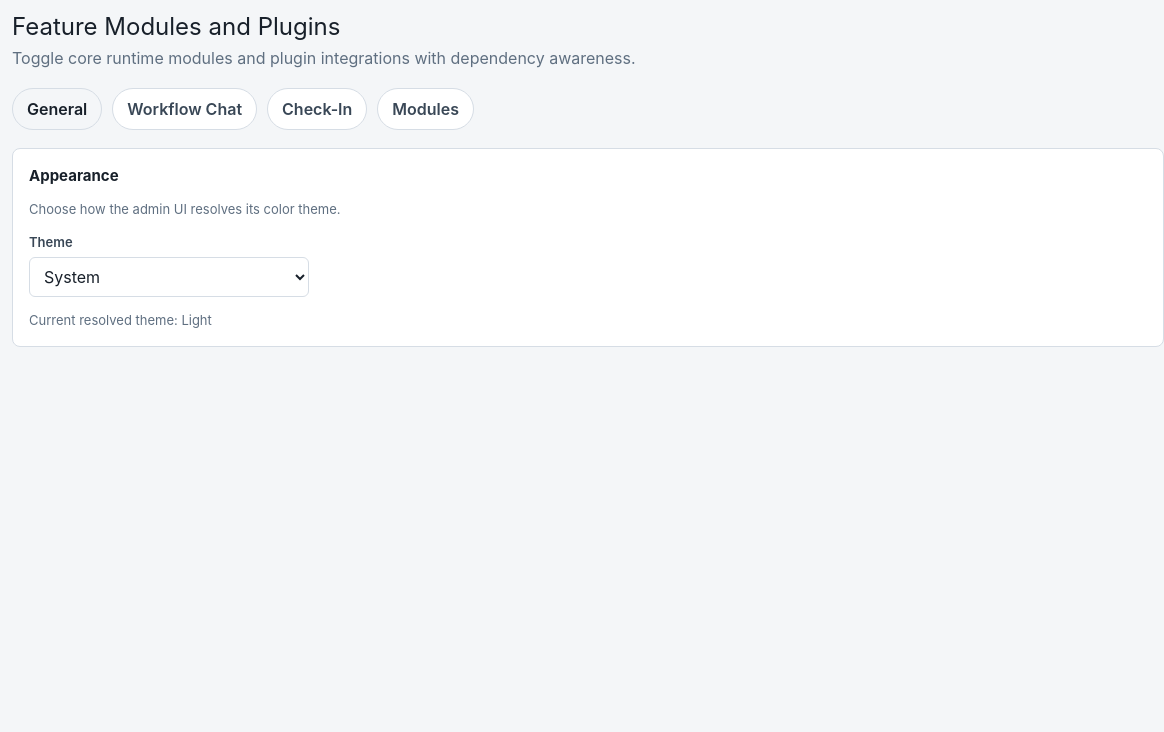
Test: SettingsView › shows check-in settings only when the check-in module is enabled
This screenshot has width=1164, height=732.
Click the button with test id "settings-tab-checkin".
click(317, 109)  # box [267,88,367,130]
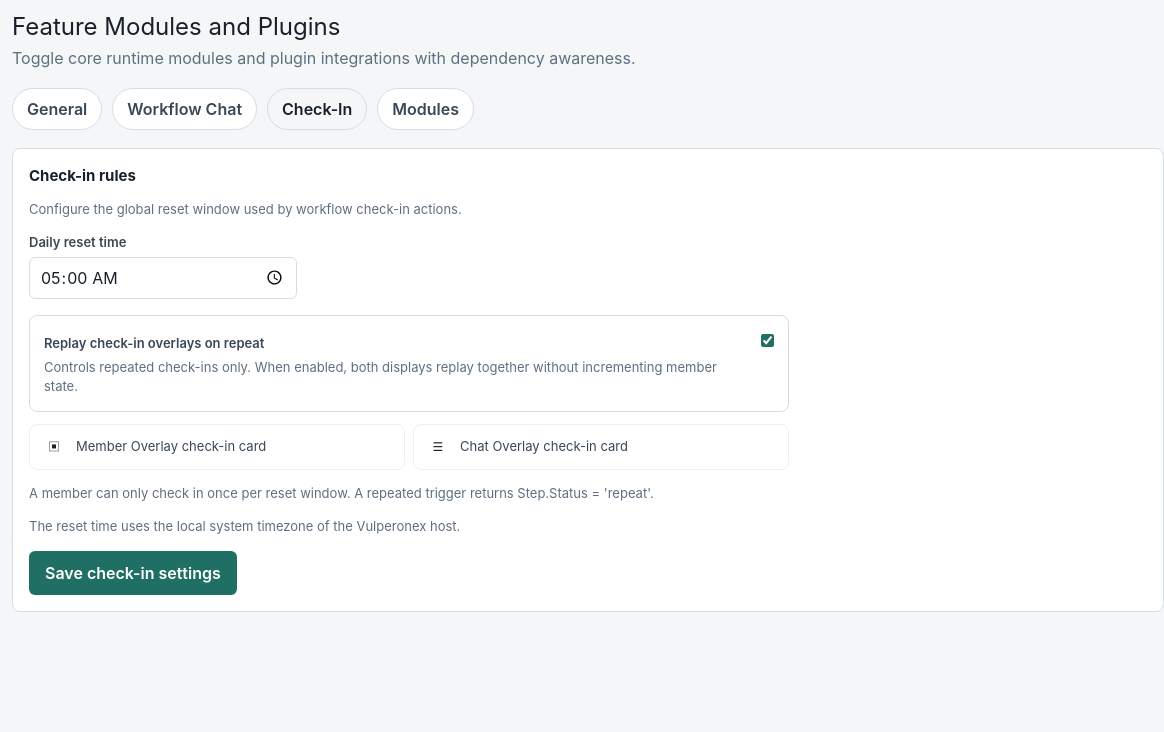
Check: the time field with test id "checkin-reset-time" holds "05:00", box [29,256,296,298]
Check: the checkbox with test id "checkin-repeat-card-enabled" is checked, box [761,334,774,346]
Check: the element with test id "checkin-repeat-display-targets" shows "Member Overlay check-in card", box [76,438,266,454]
